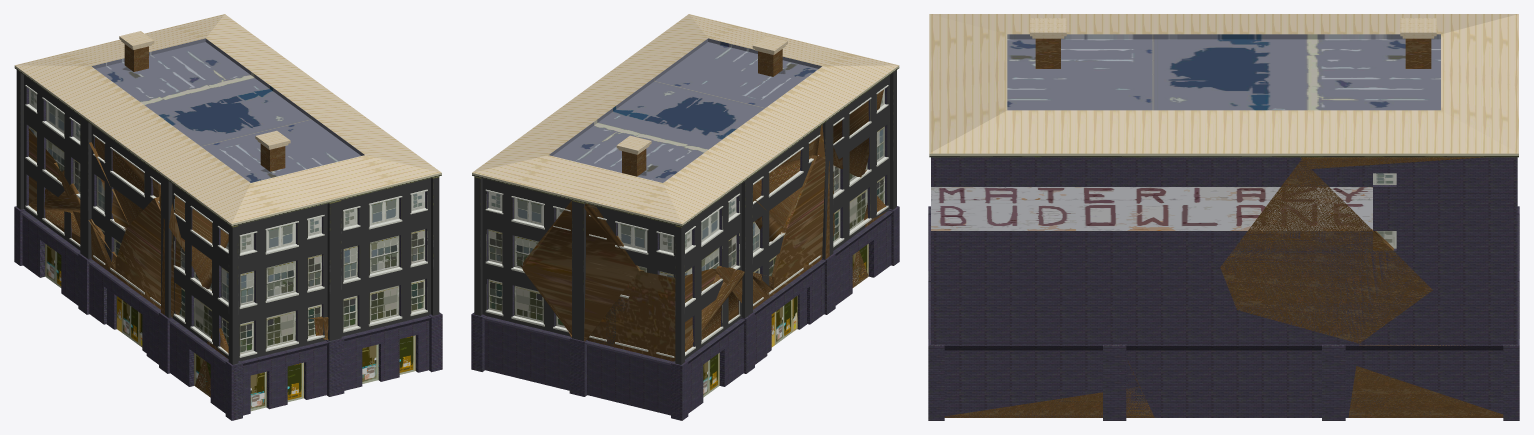
Rendered from A08_Destr.FBX.
3 renders of one model, left to right at view 1: azimuth 30°, elevation 25°; view 2: azimuth 150°, elevation 25°; view 3: azimuth 270°, elevation 25°, orthographic. The views are drawn at different scales.
Parts seen in each view (by area): view 1: K_Building_A08_00_Part_13, K_Building_A08_00_Part_19, K_Building_A08_00_Part_15, K_Building_A08_00_Part_11, K_Building_A08_00_Part_1, K_Building_A08_00_Part_7, K_Building_A08_00_Part_3, K_Building_A08_00_Part_6, K_Building_A08_00_Part_17, K_Building_A08_00_Part_16, K_Building_A08_00_Part_5, K_Building_A08_00_Part_8 (+1 smaller); view 2: K_Building_A08_00_Part_7, K_Building_A08_00_Part_5, K_Building_A08_00_Part_17, K_Building_A08_00_Part_1, K_Building_A08_00_Part_15, K_Building_A08_00_Part_12, K_Building_A08_00_Part_14, K_Building_A08_00_Part_6, K_Building_A08_00_Part_16, K_Building_A08_00_Part_13, K_Building_A08_00_Part_8, K_Building_A08_00_Part_3 (+3 smaller); view 3: K_Building_A08_00_Part_13, K_Building_A08_00_Part_5, K_Building_A08_00_Part_11, K_Building_A08_00_Part_20, K_Building_A08_00_Part_9, K_Building_A08_00_Part_14, K_Building_A08_00_Part_4, K_Building_A08_00_Part_16, K_Building_A08_00_Part_2, K_Building_A08_00_Part_17, K_Building_A08_00_Part_15, K_Building_A08_00_Part_6 (+1 smaller).
Part boxes in pixels (box(x1,y1,x2,y2)): K_Building_A08_00_Part_13: box(240, 121, 441, 276); K_Building_A08_00_Part_19: box(206, 186, 353, 335); K_Building_A08_00_Part_15: box(155, 133, 322, 292); K_Building_A08_00_Part_11: box(334, 234, 442, 389); K_Building_A08_00_Part_1: box(110, 197, 214, 386); K_Building_A08_00_Part_7: box(14, 121, 116, 327); K_Building_A08_00_Part_3: box(195, 316, 346, 420); K_Building_A08_00_Part_6: box(71, 86, 199, 224); K_Building_A08_00_Part_17: box(14, 31, 176, 169); K_Building_A08_00_Part_16: box(174, 77, 333, 149); K_Building_A08_00_Part_5: box(145, 14, 304, 79); K_Building_A08_00_Part_8: box(61, 98, 128, 255); K_Building_A08_00_Part_7: box(608, 266, 777, 420); K_Building_A08_00_Part_5: box(472, 114, 623, 265); K_Building_A08_00_Part_17: box(589, 135, 728, 279); K_Building_A08_00_Part_1: box(769, 155, 872, 351); K_Building_A08_00_Part_15: box(753, 37, 899, 178); K_Building_A08_00_Part_12: box(522, 180, 640, 359); K_Building_A08_00_Part_14: box(471, 257, 595, 396); K_Building_A08_00_Part_6: box(654, 103, 822, 226); K_Building_A08_00_Part_16: box(603, 70, 768, 149); K_Building_A08_00_Part_13: box(618, 14, 783, 91); K_Building_A08_00_Part_8: box(719, 176, 785, 276); K_Building_A08_00_Part_3: box(852, 177, 899, 287); K_Building_A08_00_Part_13: box(929, 26, 1130, 289); K_Building_A08_00_Part_5: box(1300, 70, 1518, 289); K_Building_A08_00_Part_11: box(928, 235, 1154, 420); K_Building_A08_00_Part_20: box(1220, 159, 1432, 343); K_Building_A08_00_Part_9: box(1122, 110, 1315, 267); K_Building_A08_00_Part_14: box(1348, 267, 1519, 420); K_Building_A08_00_Part_4: box(1122, 310, 1359, 420); K_Building_A08_00_Part_16: box(1116, 40, 1352, 123); K_Building_A08_00_Part_2: box(1095, 233, 1236, 359); K_Building_A08_00_Part_17: box(1339, 14, 1518, 75); K_Building_A08_00_Part_15: box(929, 14, 1145, 77); K_Building_A08_00_Part_6: box(1137, 14, 1369, 69).
Size of the model in its own units: 1314 by 1367 by 2348.
